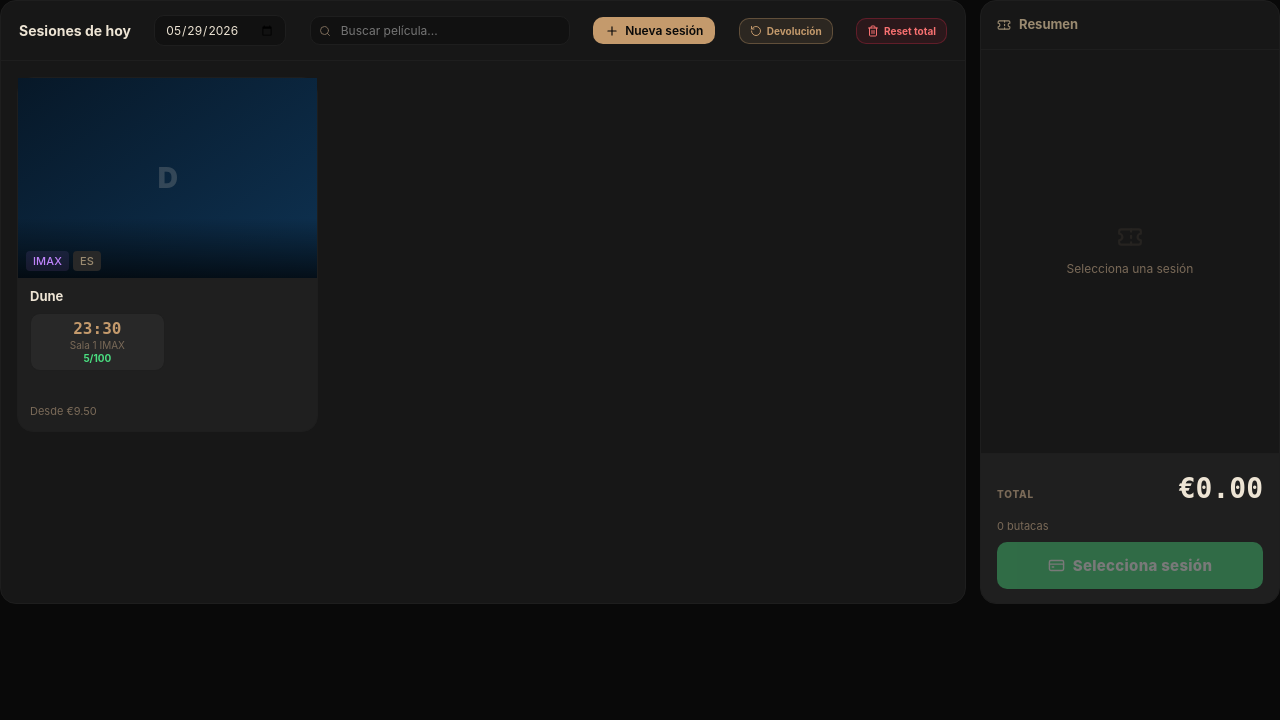
Test: BoxOfficePage — deep flow › normalizes seats with all the weird shapes without crashing
Click the button "23:30 Sala 1 IMAX 5/100".
click(97, 342)  # box [30,313,165,371]
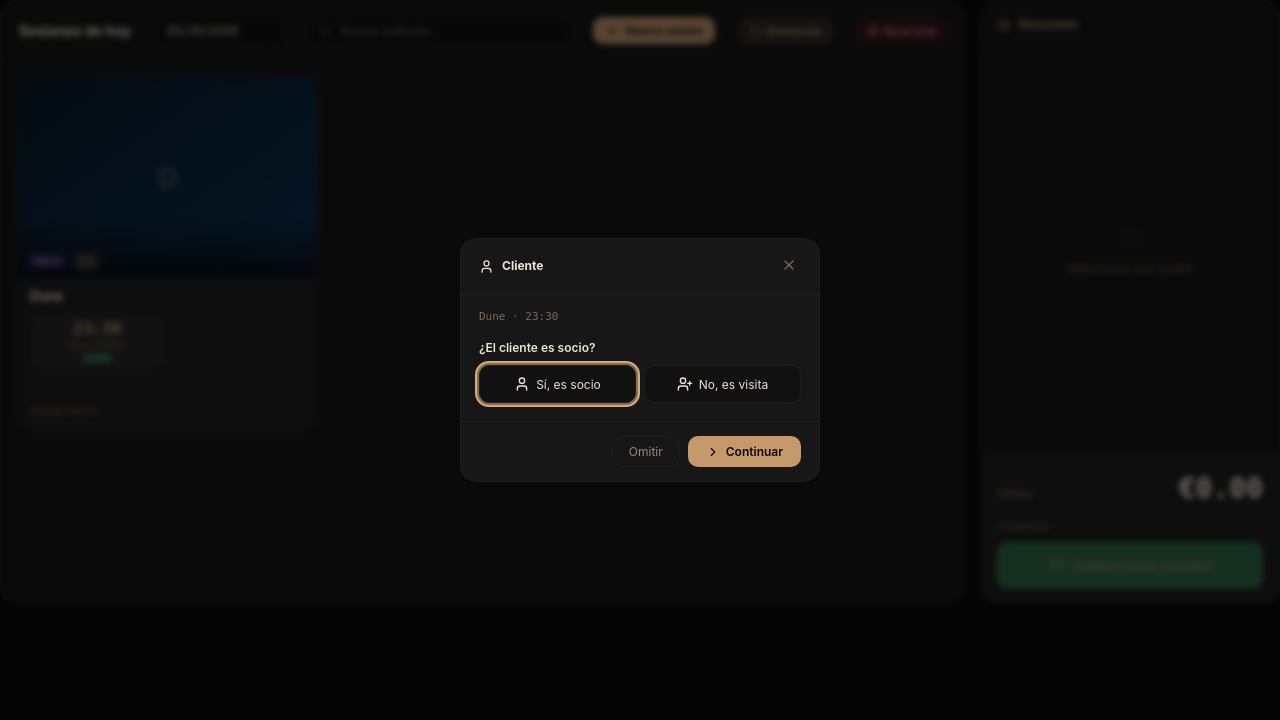
Click the button "Omitir".
click(646, 452)  # box [612,436,680,467]
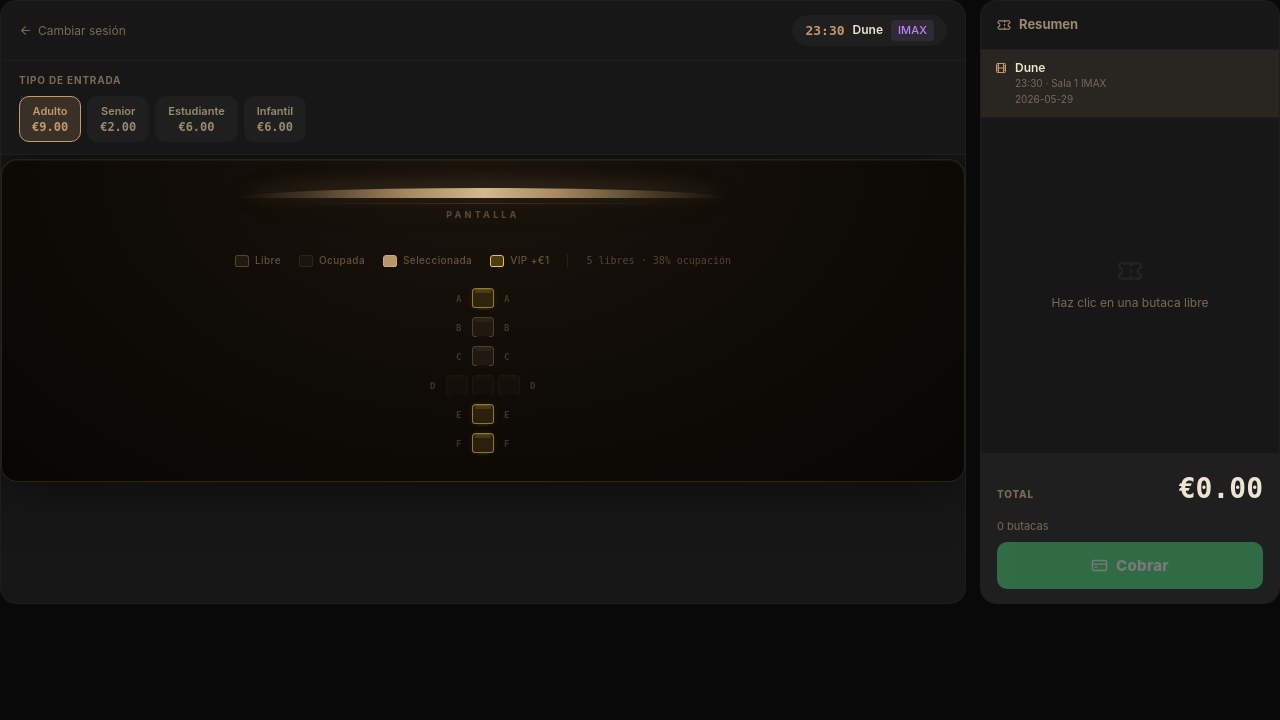
expect the button named "Butaca A01 VIP libre" is shown: met, box [472,288,494,308]
